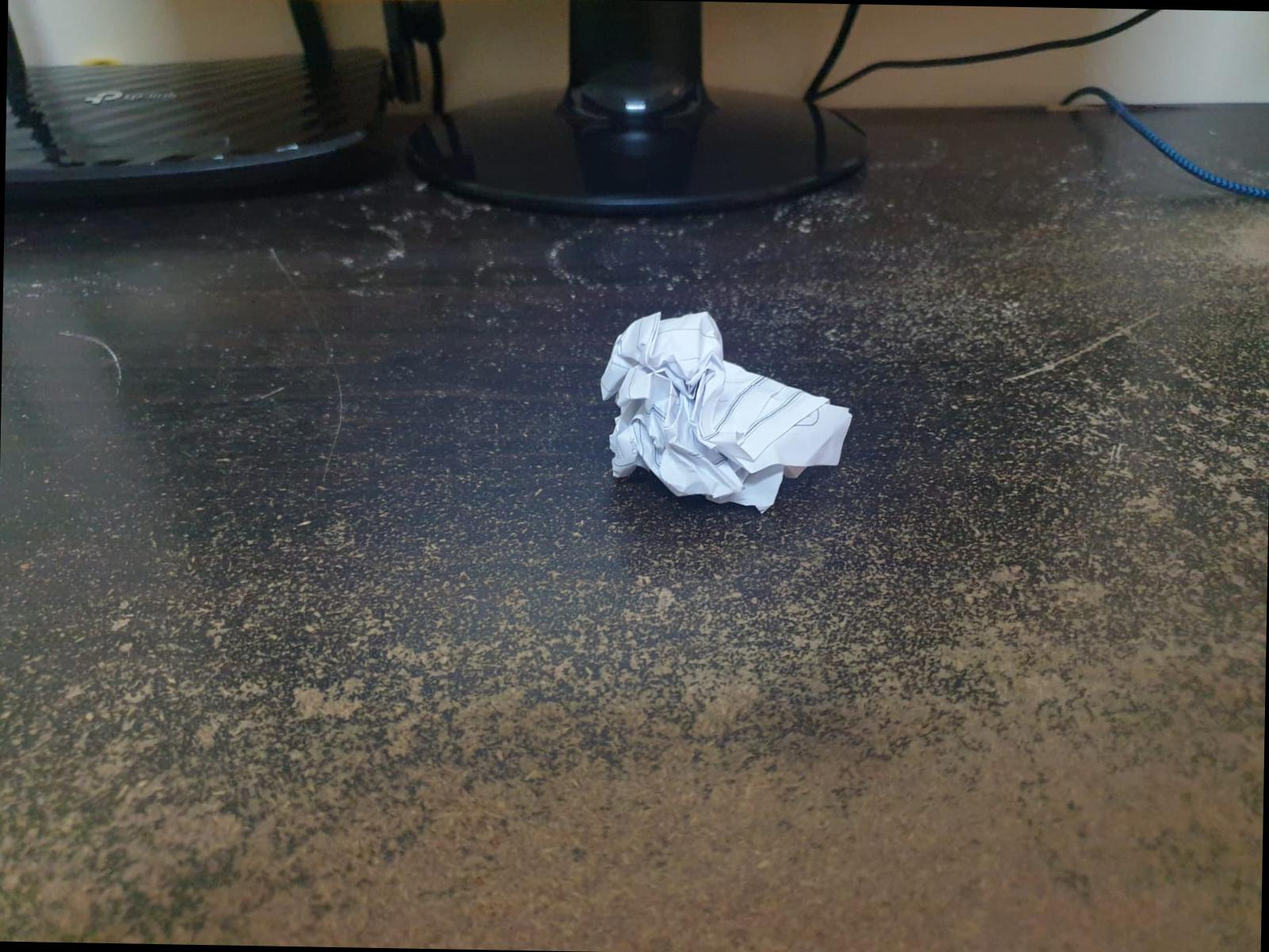Kertas: (601, 311, 852, 516)
